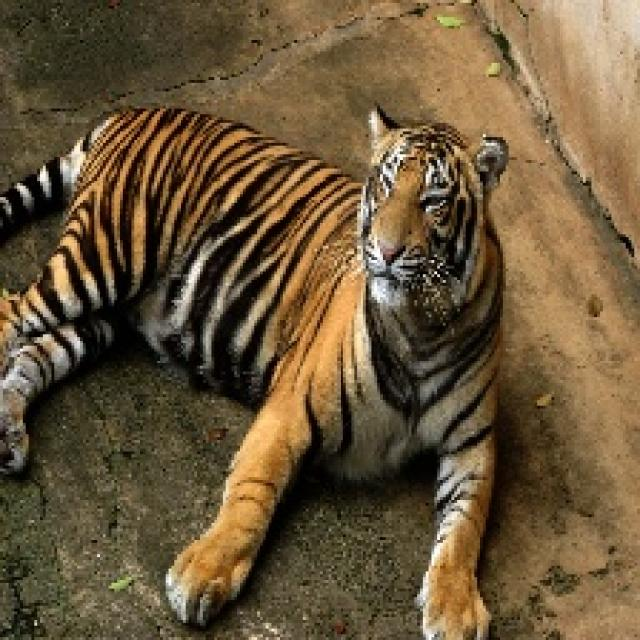animal: (19, 108, 577, 628)
